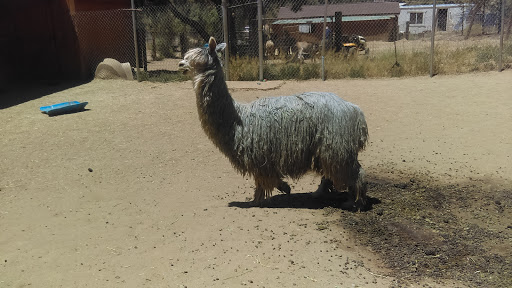alpaca: (177, 35, 369, 208)
